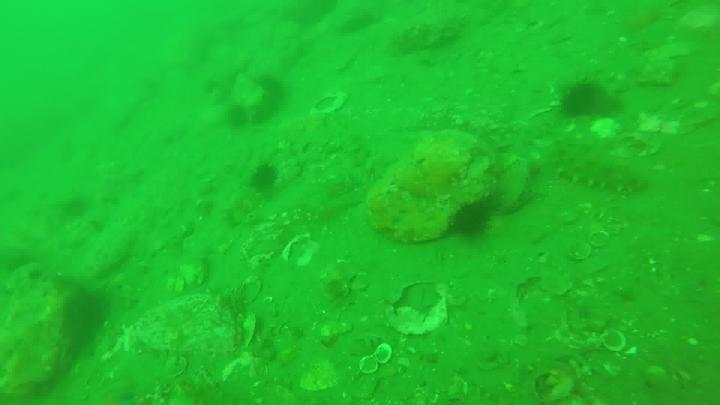echinus: (562, 81, 604, 118), (455, 203, 493, 239), (254, 162, 275, 192), (229, 105, 246, 131)
holothurian: (549, 142, 646, 195)
scallop: (567, 230, 613, 263), (222, 276, 264, 307), (360, 344, 397, 373), (327, 271, 373, 294), (235, 313, 259, 348), (164, 356, 192, 379), (177, 264, 208, 284), (599, 332, 626, 353)
